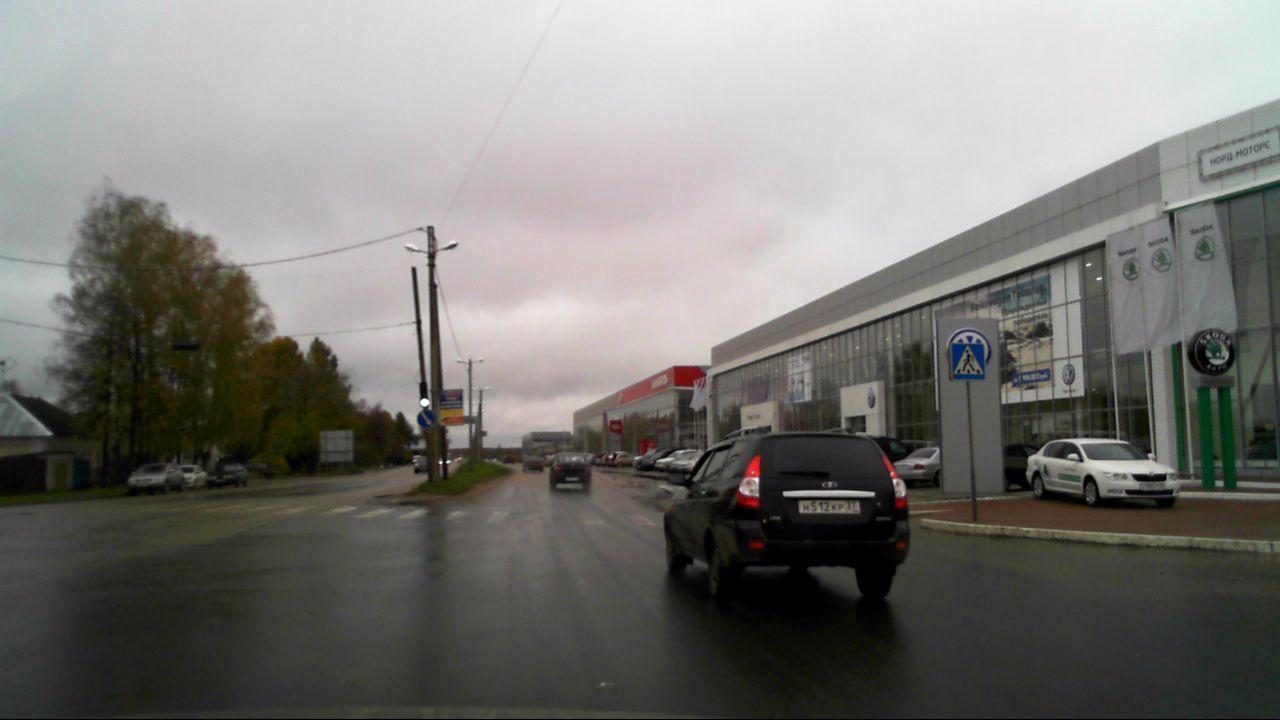road_sign: (952, 344, 986, 379), (416, 410, 436, 428)
